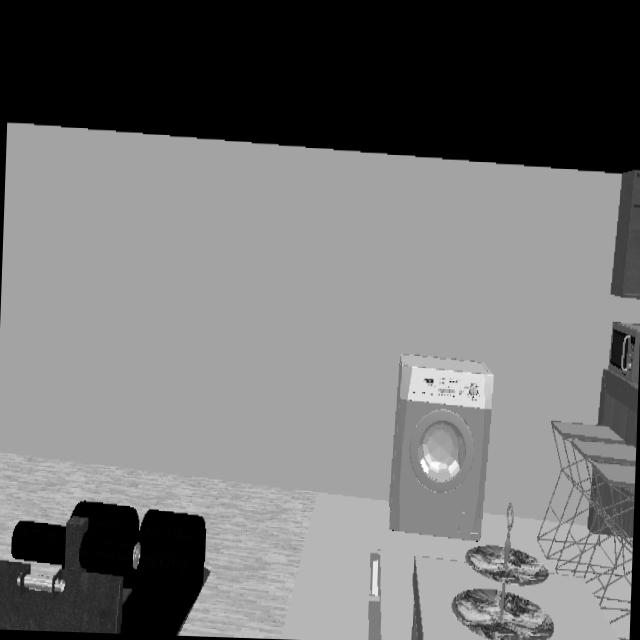microwave: (607, 322, 640, 385), (628, 391, 638, 408)
